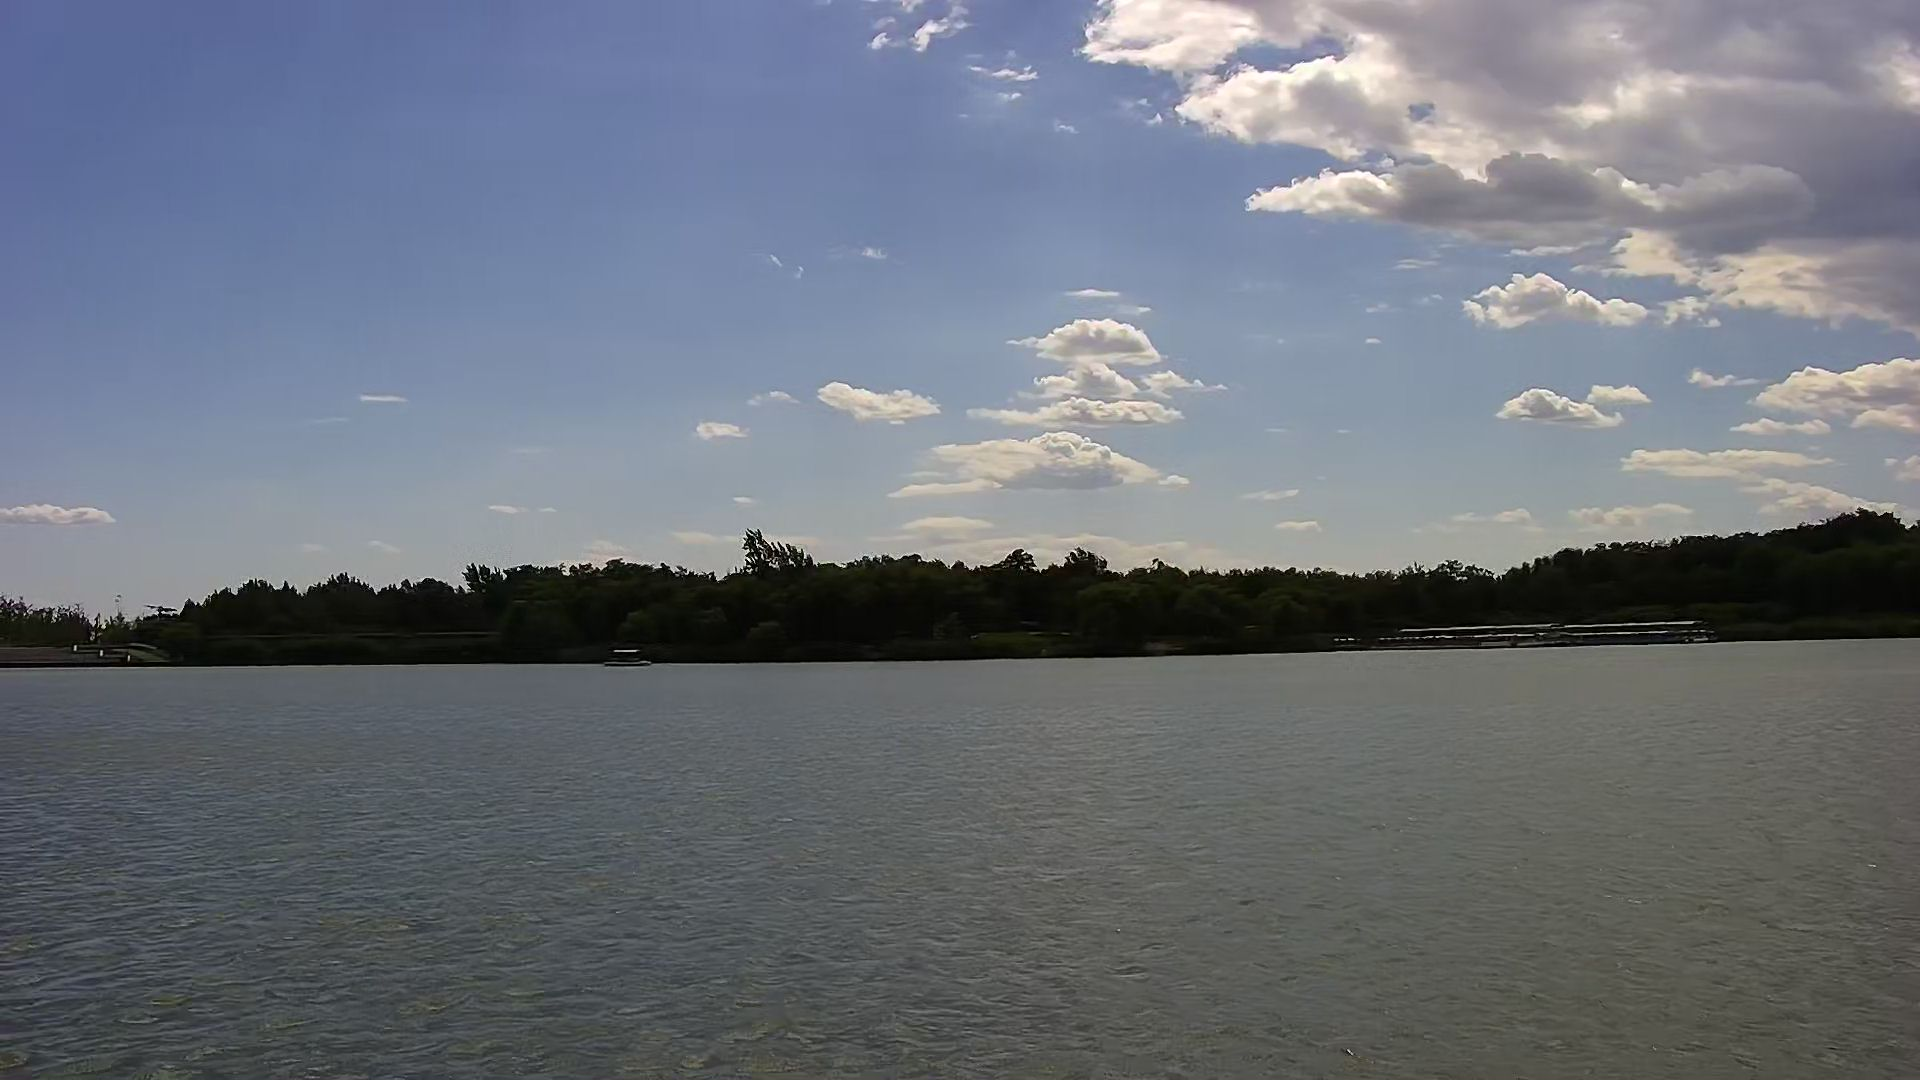boat: (599, 644, 654, 673)
harbor: (1344, 617, 1718, 651)
